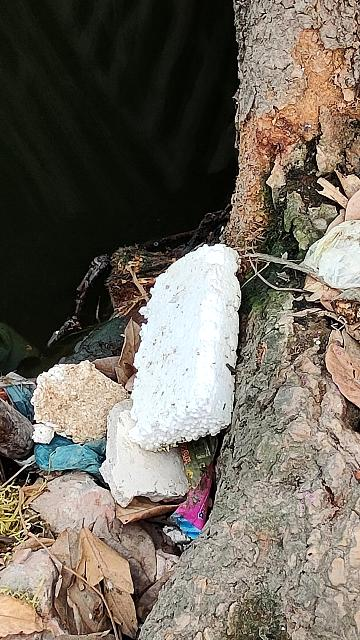cocksheet: (89, 233, 257, 503)
